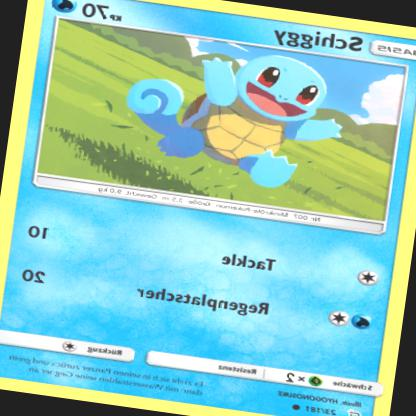Squirtle: (120, 38, 353, 196)
